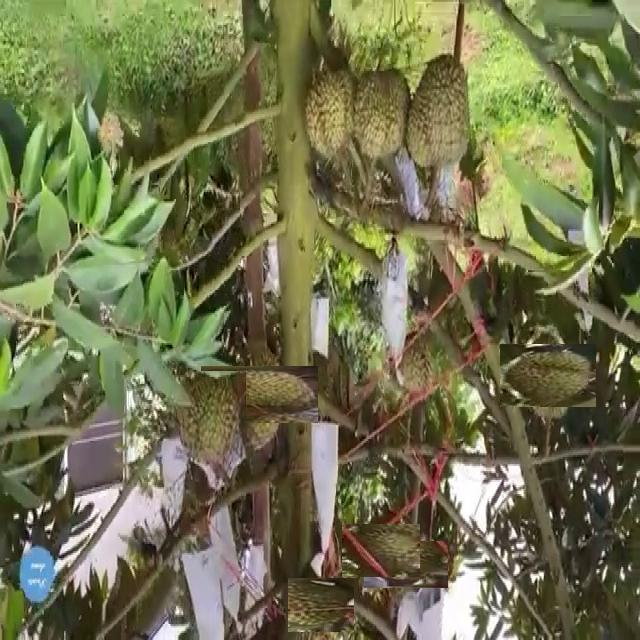durian: (405, 53, 474, 177), (216, 351, 303, 438), (172, 371, 246, 465), (508, 336, 588, 416), (352, 54, 411, 161), (300, 65, 360, 163), (373, 532, 440, 598), (348, 518, 414, 584), (291, 574, 351, 635), (391, 321, 436, 398)
